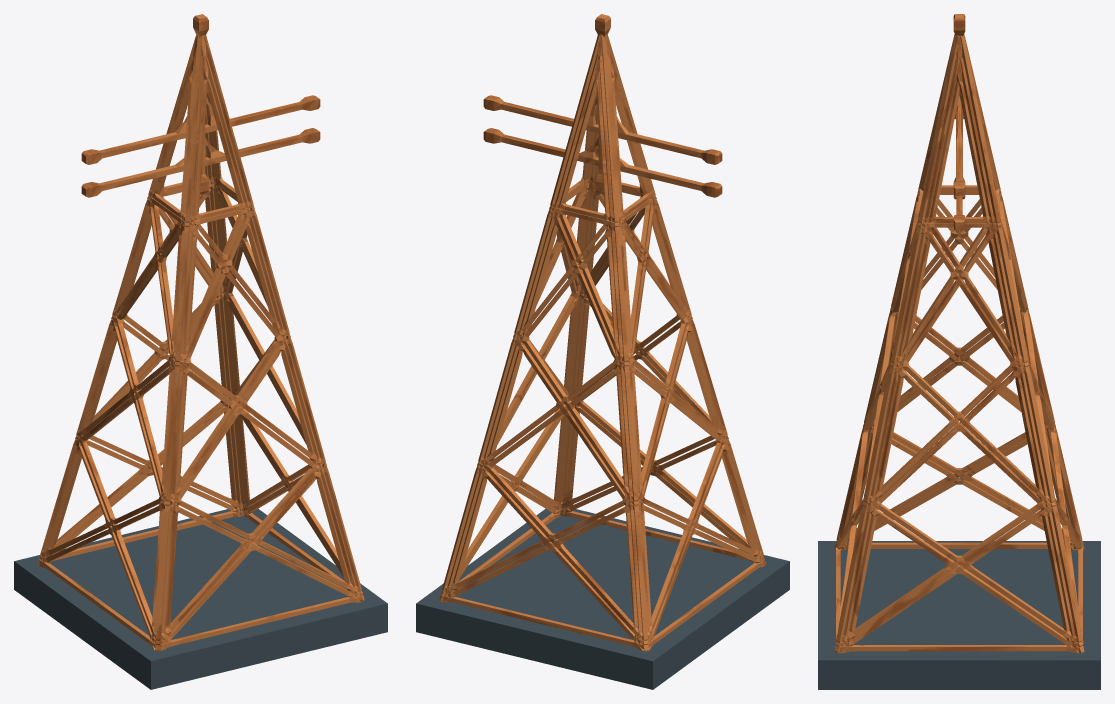
File: Power Tower.fbx
3 views of the same model, side by side, from view 1: azimuth 30°, elevation 25°; view 2: azimuth 150°, elevation 25°; view 3: azimuth 270°, elevation 25° (orthographic). The views are drawn at different scales.
Visible parts, largest first — view 1: Power Line Tower; view 2: Power Line Tower; view 3: Power Line Tower.
Part boxes in pixels (bbox=[...]): Power Line Tower: bbox=[14, 14, 387, 689]; Power Line Tower: bbox=[416, 14, 789, 689]; Power Line Tower: bbox=[818, 14, 1100, 689].
Size of the model in its own units: 2996 by 2996 by 7184.
